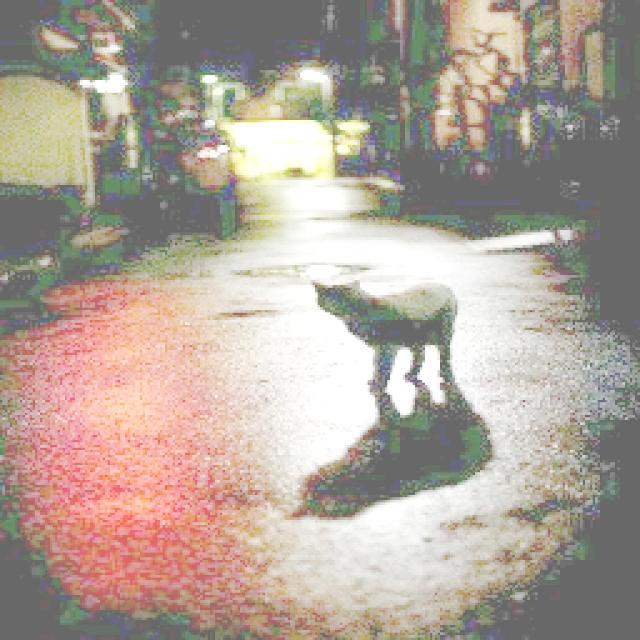cat: (304, 274, 468, 385)
